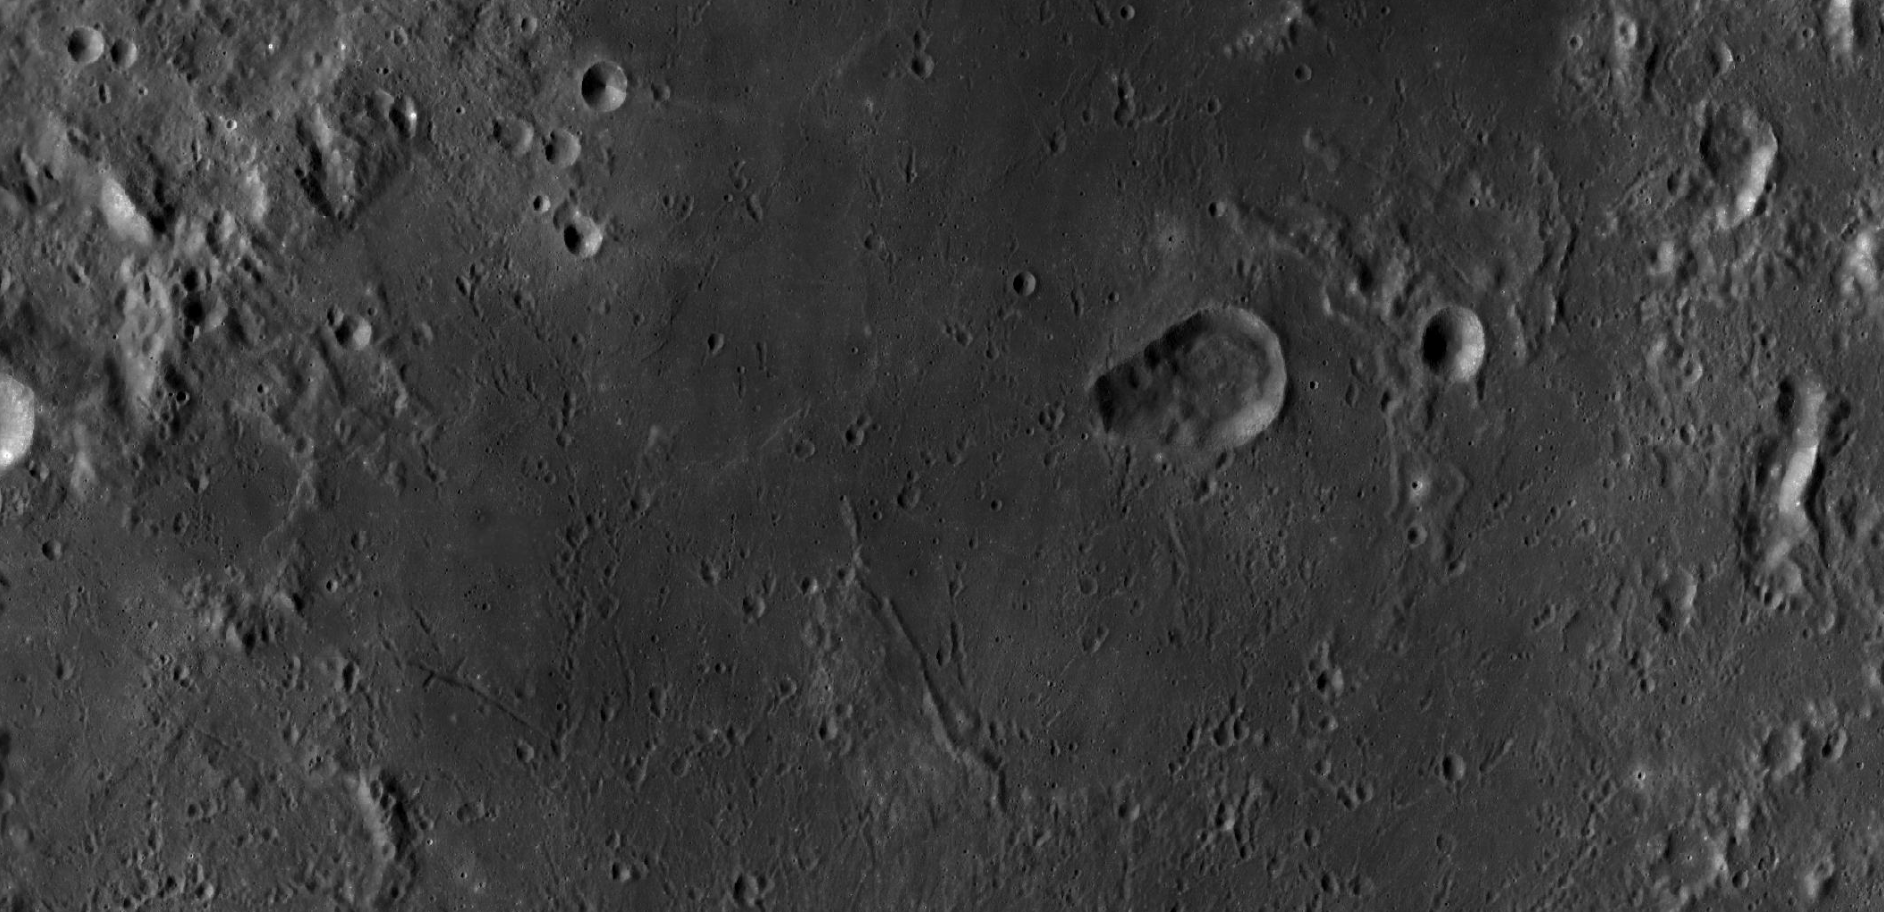crater: (1077, 284, 1310, 499), (1402, 300, 1506, 406), (565, 46, 645, 117), (53, 8, 109, 76), (1004, 260, 1050, 303)
